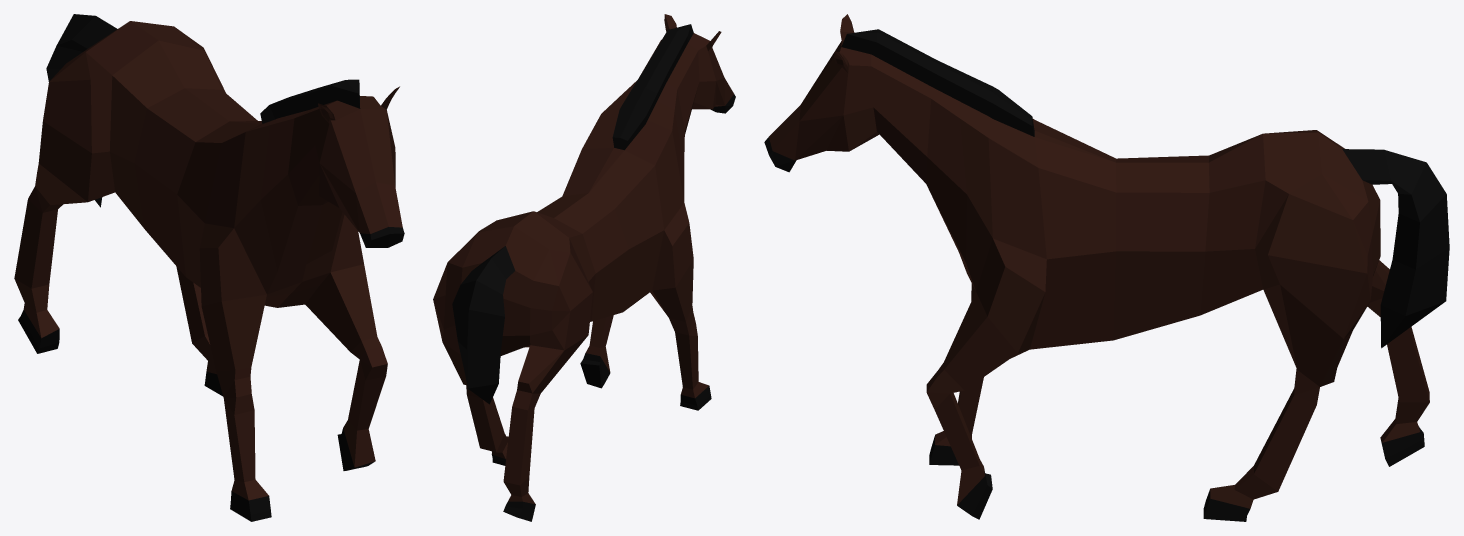
Rendered from Horse_000023.obj.
The picture shows the model from 3 angles, left to right: view 1: azimuth 30°, elevation 25°; view 2: azimuth 150°, elevation 25°; view 3: azimuth 270°, elevation 25°; orthographic projection. The views are drawn at different scales.
Visible parts, largest first — view 1: Horse_Cylinder; view 2: Horse_Cylinder; view 3: Horse_Cylinder.
Boxes of the visible parts, <box> form: Horse_Cylinder: <box>14,14,404,521</box>; Horse_Cylinder: <box>433,14,735,521</box>; Horse_Cylinder: <box>764,14,1449,521</box>.
Bounding box in the file's own units: 2.56 × 6.74 × 9.11.
